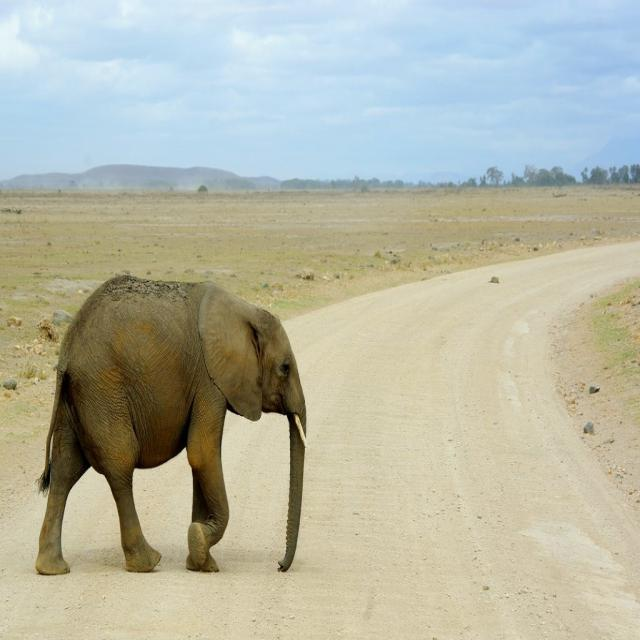Elephant: (32, 274, 312, 590)
